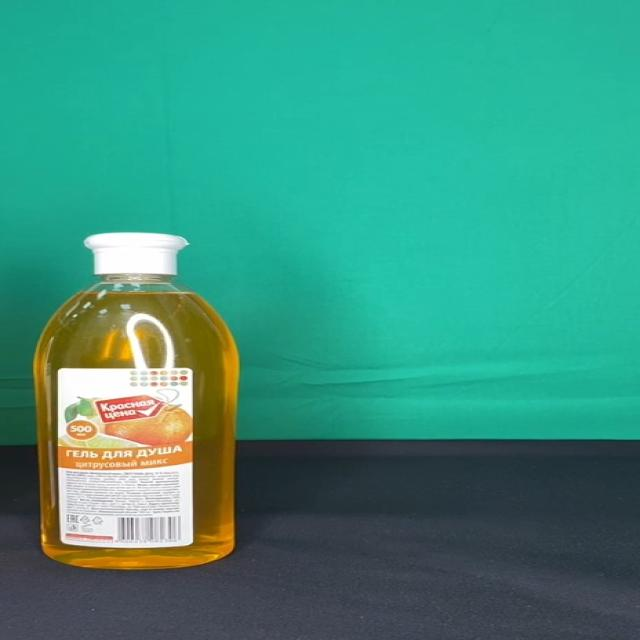Bottle: (31, 232, 239, 568)
Cap: (85, 233, 188, 276)
